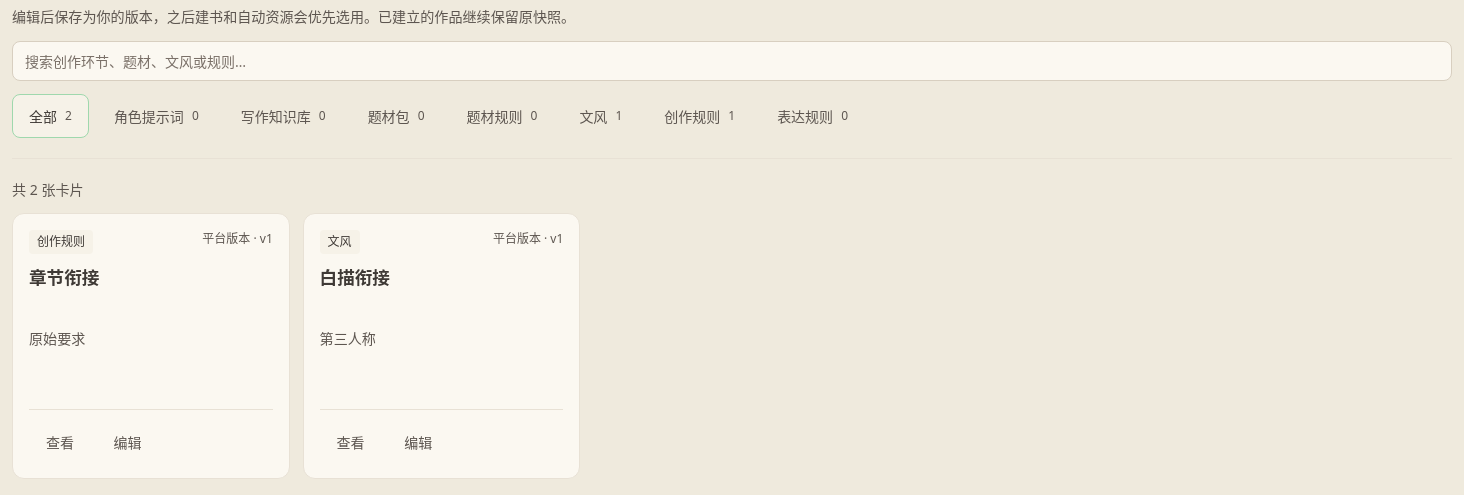
it: shows stable admin category order including empty categories and combines search with category
The width and height of the screenshot is (1464, 495).
Type "衔接" into the field named "搜索写作资源" at (732, 61), box [12,41,1452,81]
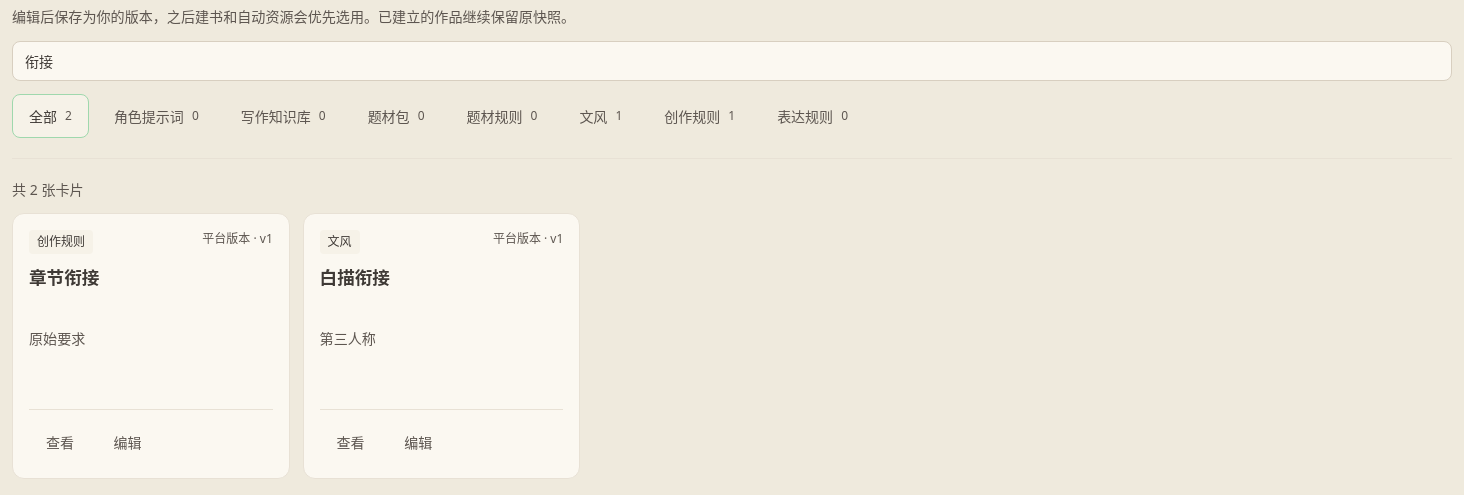
Click the button "文风 1" at (601, 116), box [562,94,639,138]
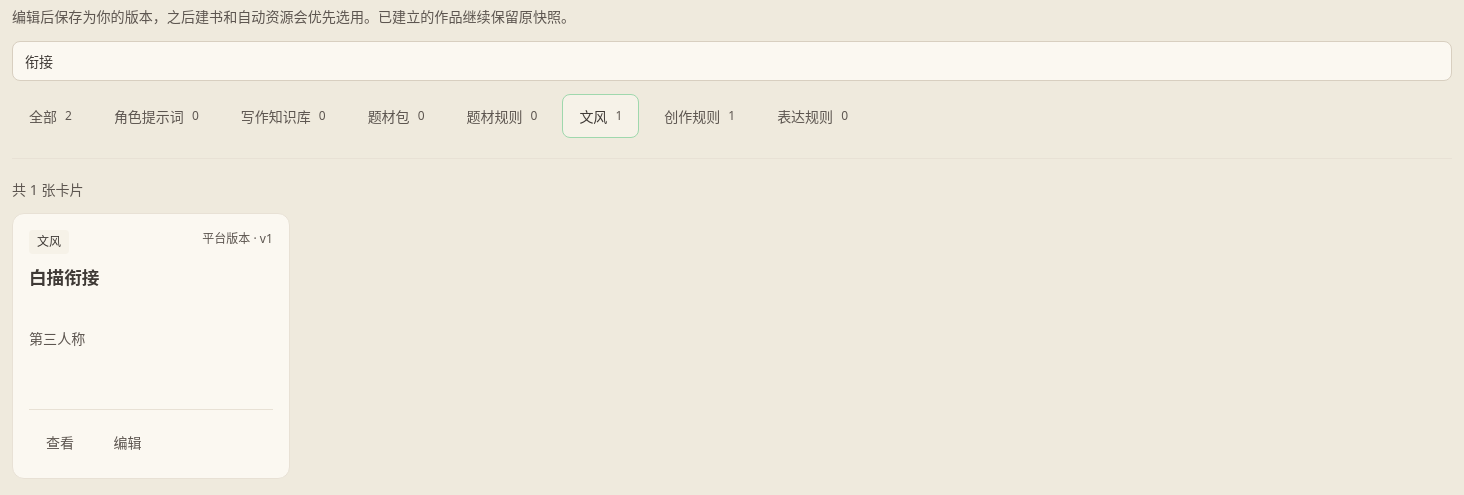
Expected: the button with aria-label "查看 白描衔接" is shown, [29,422,91,462]
Replace the text in the field named "搜索写作资源" with "不存在" at (732, 61), box [12,41,1452,81]
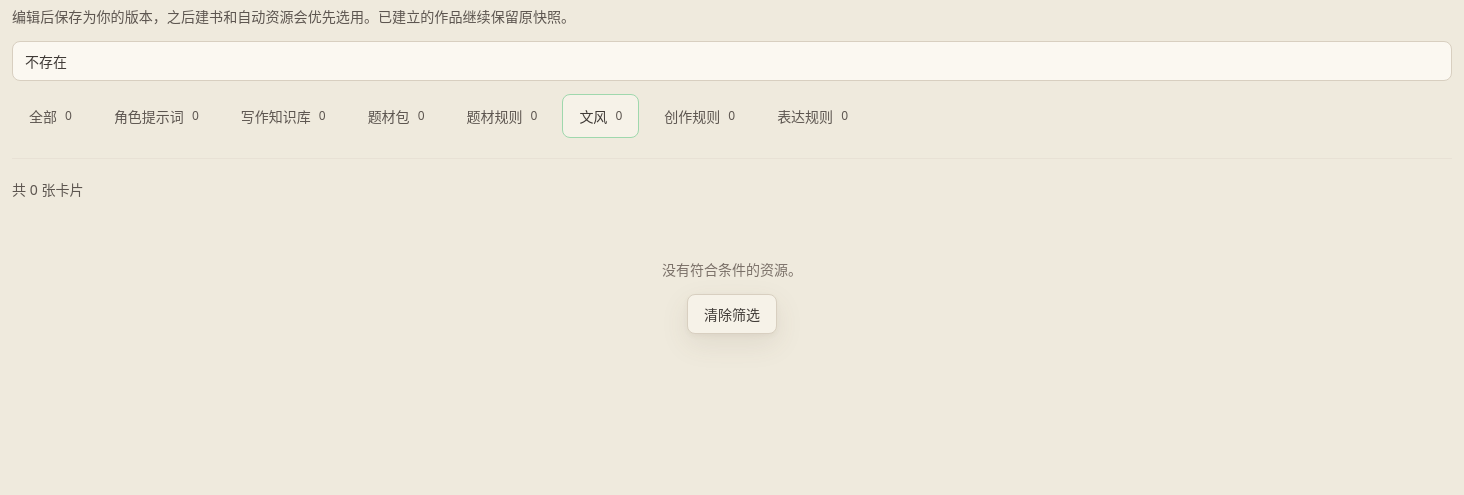
Expected: the text "没有符合条件的资源。" is shown, [662,260,802,279]
Click the button "清除筛选" at (732, 314), box [687,294,777,334]
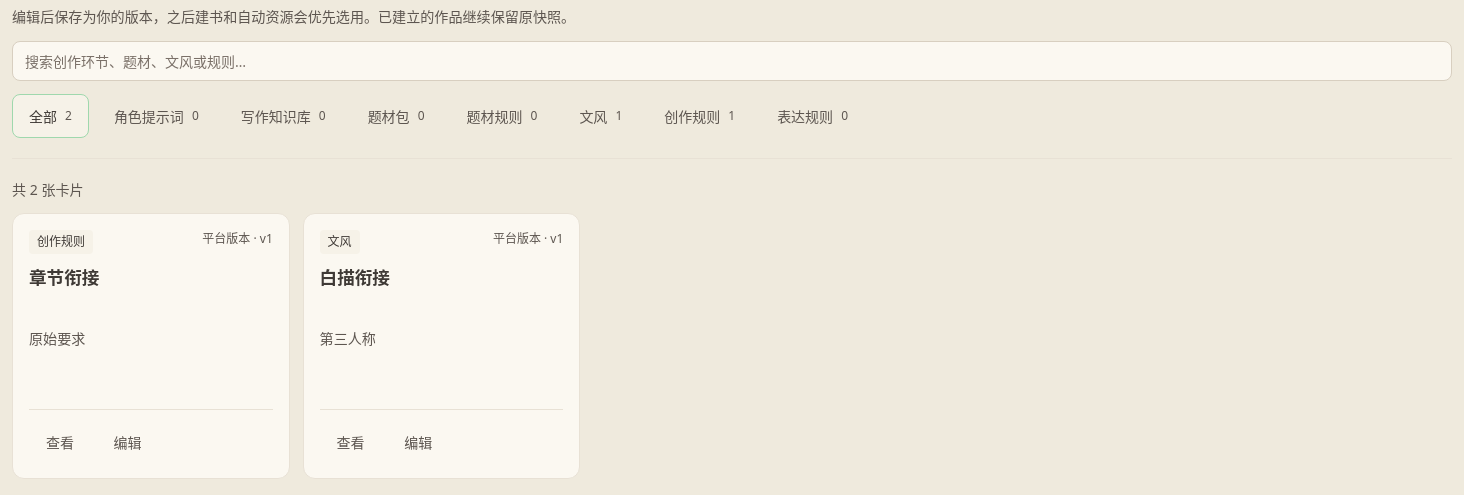
Expected: the button with aria-label "查看 章节衔接" is shown, [29,422,91,462]
Expected: the button with aria-label "查看 白描衔接" is shown, [320,422,382,462]
Expected: the field named "搜索写作资源" is empty, [12,41,1452,81]
